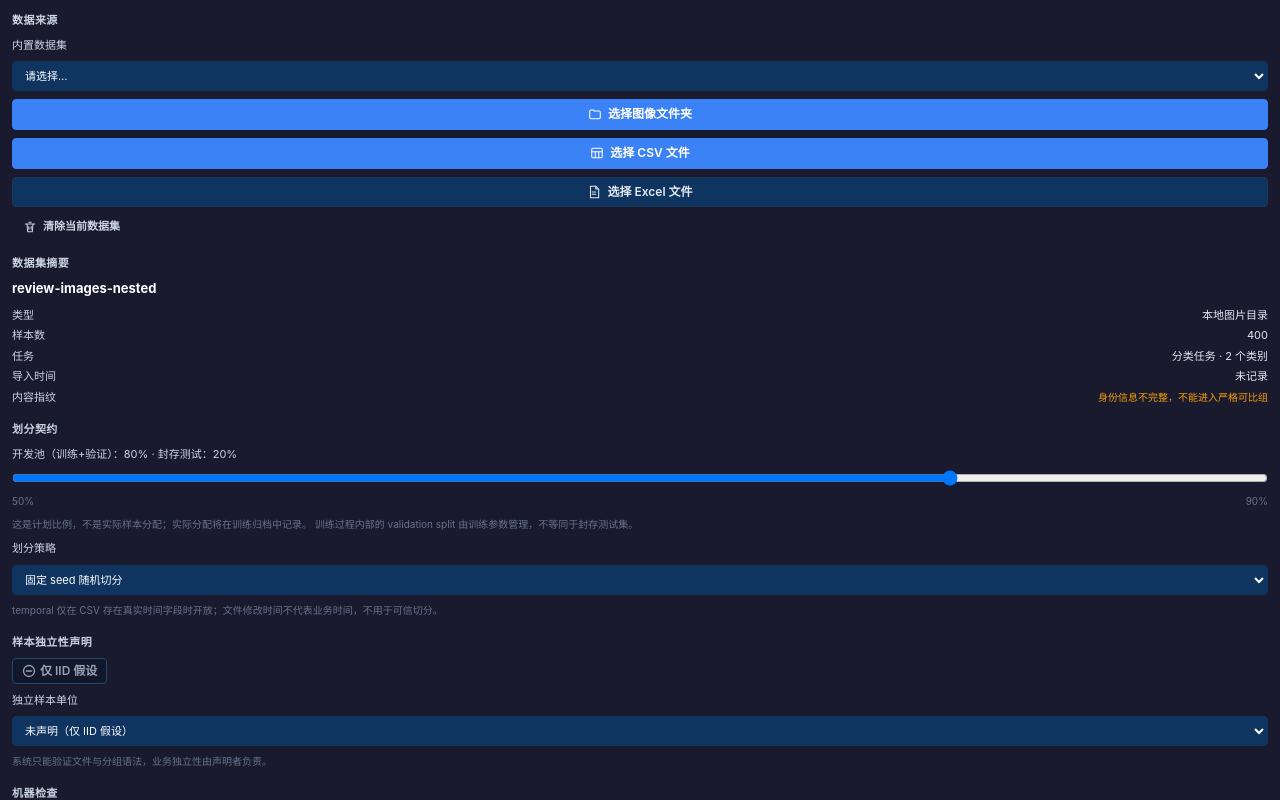
DatasetPanel split strategy contract › shows image group selection, binds the controlled field, and explains unavailable temporal semantics
Select "按分组隔离" in the dropdown labelled "划分策略" at [640, 580], box [12,565,1268,595]
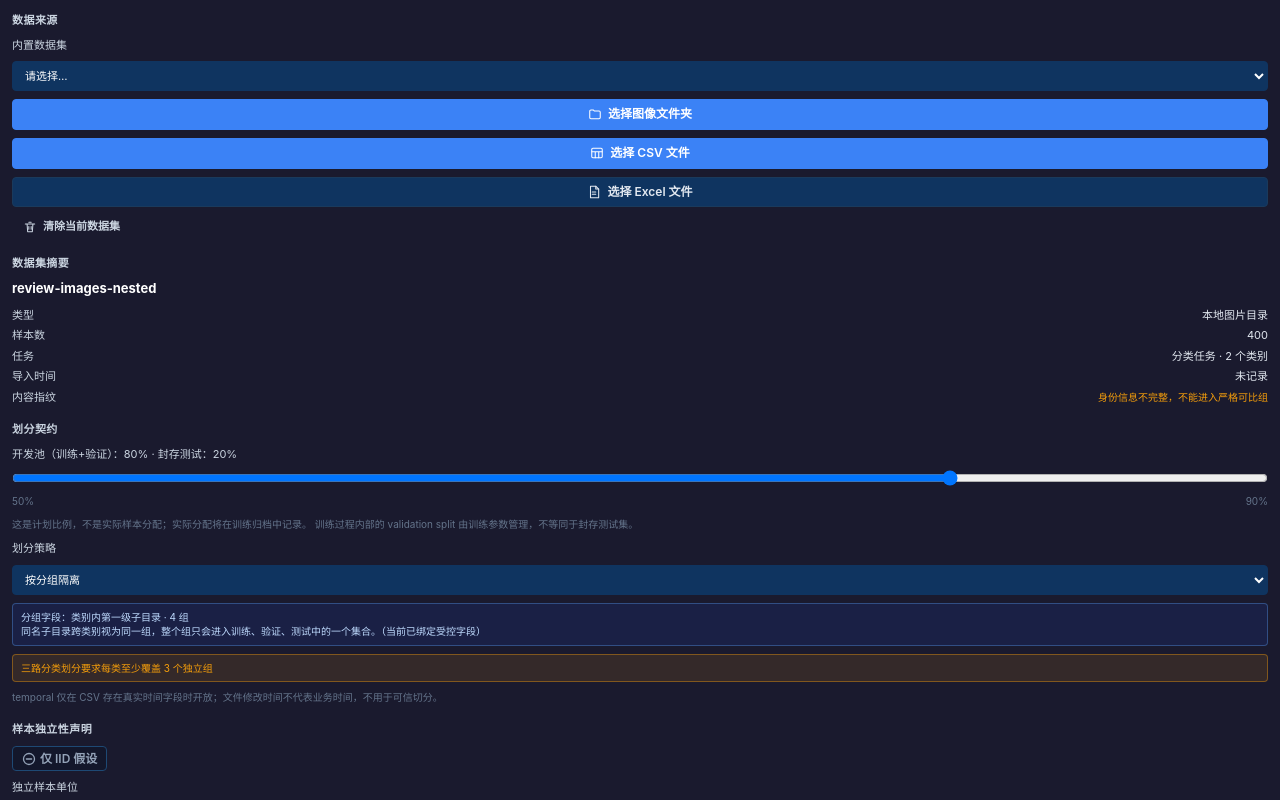
Expected: the text "temporal 仅在 CSV 存在真实时间字段时开放；文件修改时间不代表业务时间，不用于可信切分。" is shown, [12,691,443,703]
Now the text "分组字段：类别内第一级子目录 · 4 组" is shown, box [12,603,1268,646]
Now the message shows "每类至少覆盖 3 个独立组", box [21,662,213,674]
